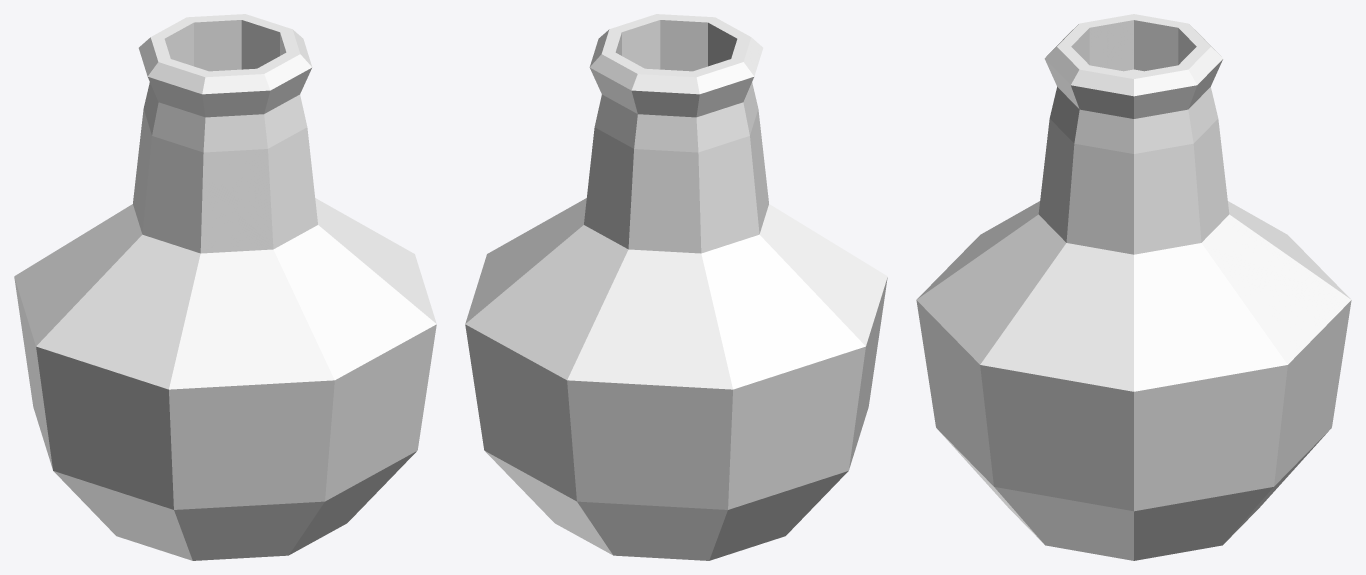
File: PotteryJar_03.fbx
The picture shows the model from 3 angles, left to right: view 1: azimuth 30°, elevation 25°; view 2: azimuth 150°, elevation 25°; view 3: azimuth 270°, elevation 25°; orthographic projection.
Visible parts, largest first — view 1: PotteryJar_03; view 2: PotteryJar_03; view 3: PotteryJar_03.
Boxes of the visible parts, x1,y1,x2,y2 form: PotteryJar_03: (14,14,436,560); PotteryJar_03: (465,14,887,560); PotteryJar_03: (916,14,1351,560).
Size of the model in its own units: 90.6 by 106 by 90.6.
